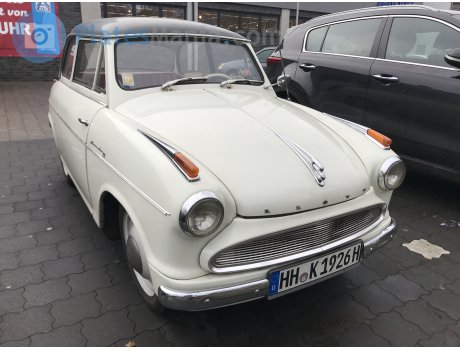License Plates: (279, 246, 357, 288)
